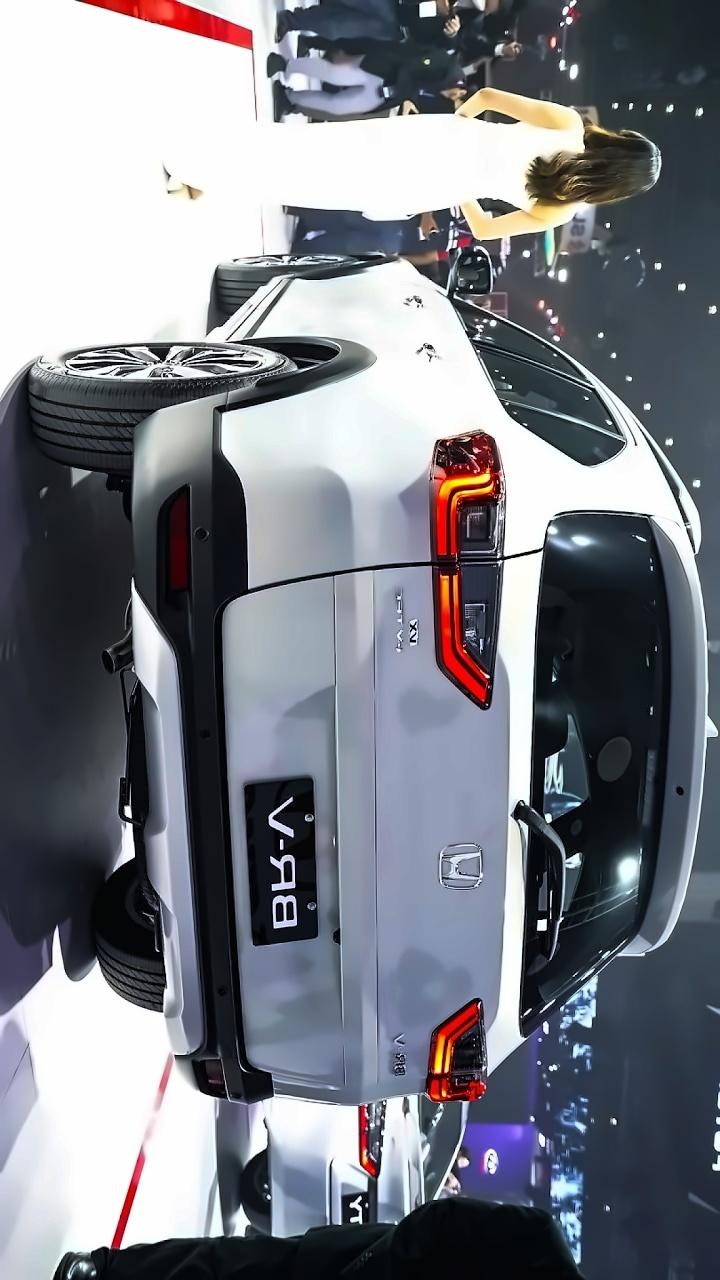Car boot: (200, 538, 561, 1113)
Fender - -R-L-: (212, 366, 506, 502)
Passenger-s door - -F-L-: (276, 270, 612, 384)
Passenger-s door - -R-L-: (220, 328, 639, 471)
Rear bumper: (100, 384, 343, 1122)
Rear light - -L-: (410, 408, 530, 715)
Rear light - -R-: (418, 986, 517, 1125)
Side bumper - -L-: (190, 252, 299, 353)
Side mirror - -L-: (432, 230, 515, 312)
